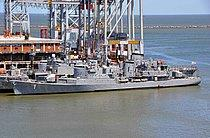MIL_Ship: (8, 62, 202, 92)
